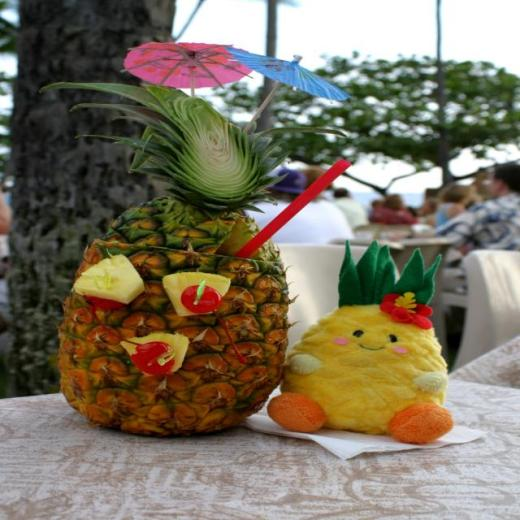Mango: (283, 242, 452, 436)
